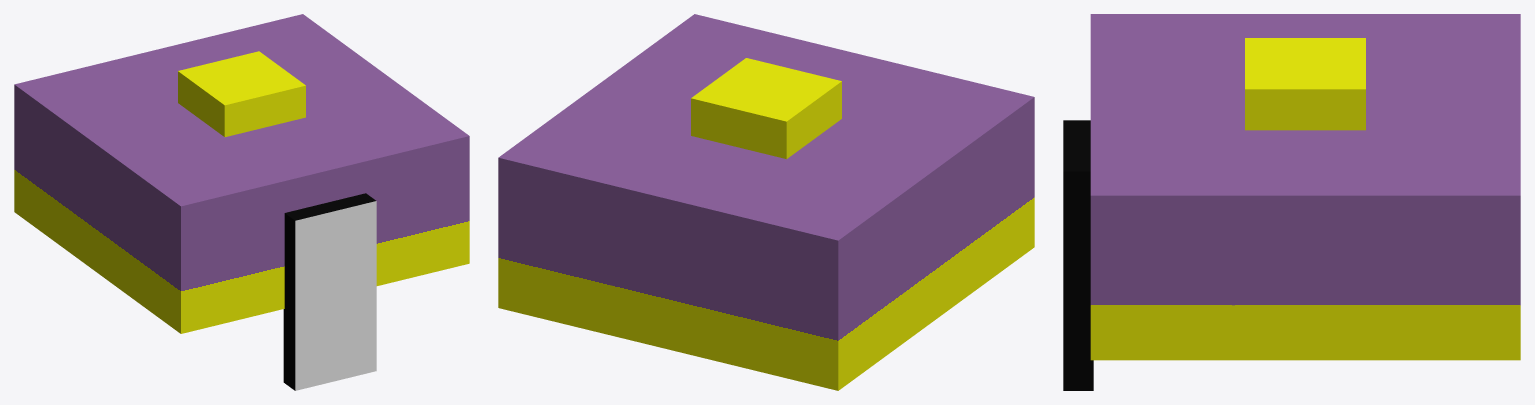
Rendered from hat_mystic.fbx.
3 renders of one model, left to right at view 1: azimuth 30°, elevation 25°; view 2: azimuth 150°, elevation 25°; view 3: azimuth 270°, elevation 25°, orthographic. The views are drawn at different scales.
Visible parts, largest first — view 1: hat, cube.001, cube; view 2: hat, cube; view 3: hat, cube, cube.001.
Part boxes in pixels (x1,y1,x2,y2): hat: [14, 14, 469, 333]; cube.001: [283, 193, 376, 390]; cube: [178, 51, 305, 136]; hat: [498, 14, 1034, 390]; cube: [691, 58, 841, 159]; hat: [1090, 14, 1520, 360]; cube: [1245, 38, 1365, 130]; cube.001: [1063, 120, 1093, 390].
Size of the model in its own units: 44.37 by 34.37 by 47.19.
1 material, 1 textured.
